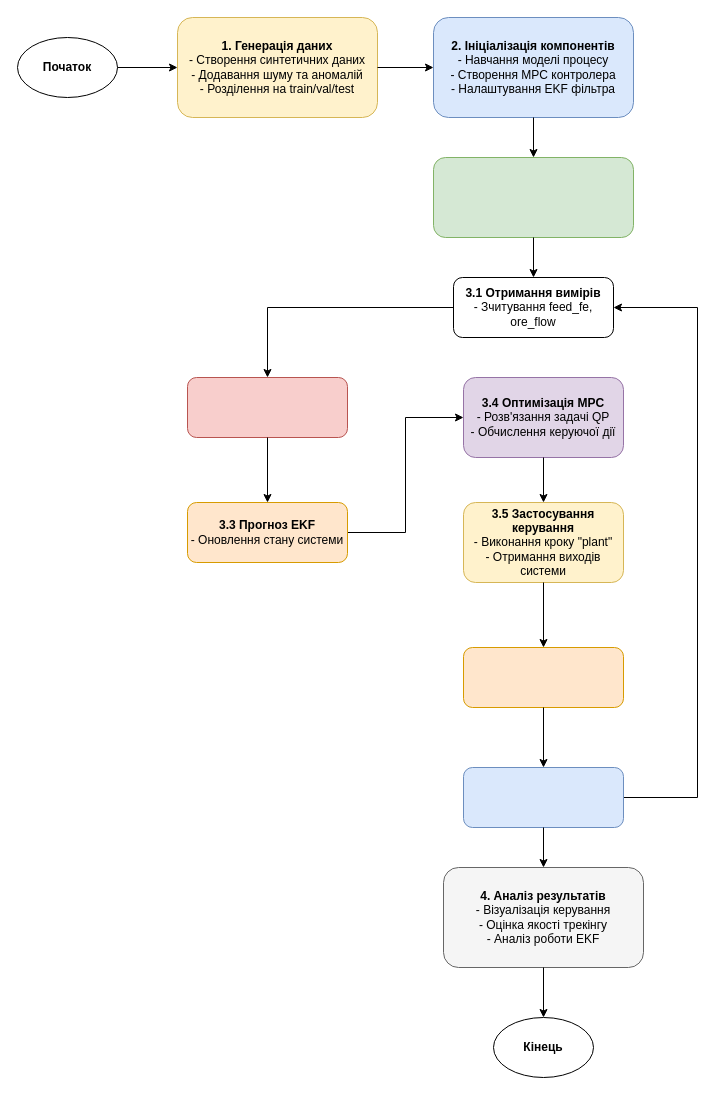
Some shapes in this 723 by 1095 pixel diagram are drawn without their labels. Each missing label, with the box of its shape:
3. Основний цикл симуляції Для кожного кроку t:: (432, 156, 634, 238)
3.2 Фільтрація аномалій - Spike/drop/drift/freeze: (186, 376, 348, 438)
3.6 Корекція EKF - Оновлення на основі вимірювань: (462, 646, 624, 708)
3.7 Динамічне перенавчання (Якщо потрібно): (462, 766, 624, 828)
